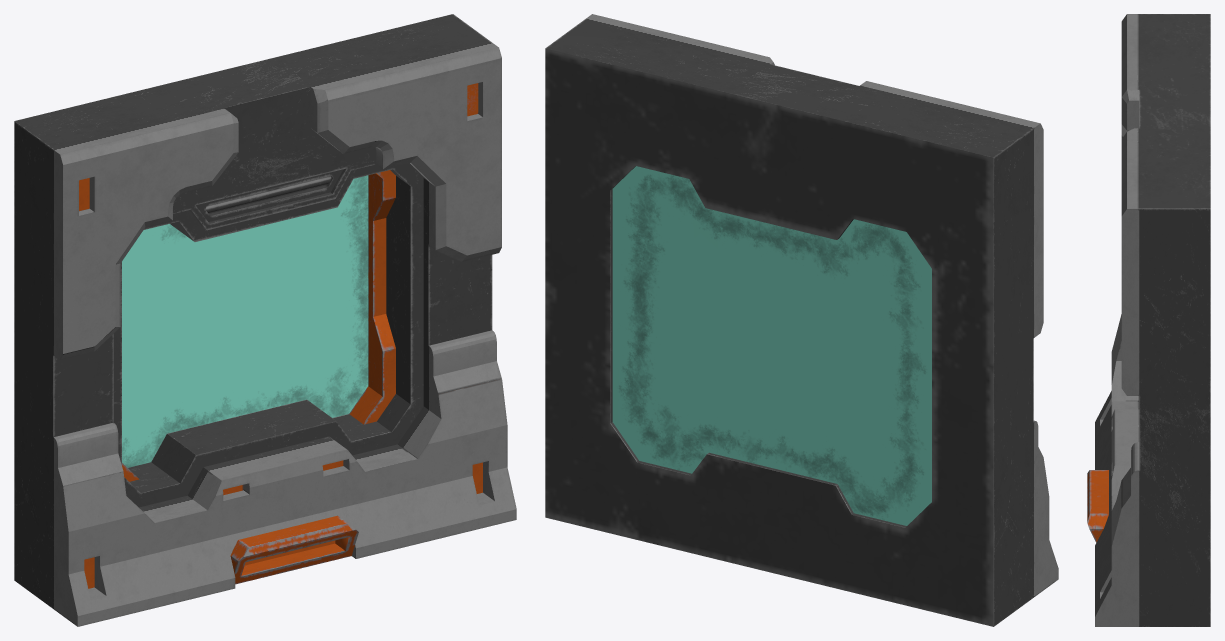
Rendered from tile_wall1.FBX.
3 renders of one model, left to right at view 1: azimuth 30°, elevation 25°; view 2: azimuth 150°, elevation 25°; view 3: azimuth 270°, elevation 25°, orthographic. The views are drawn at different scales.
Visible parts, largest first — view 1: tile_wall1_low, tile_wall1_Glass_low; view 2: tile_wall1_low, tile_wall1_Glass_low; view 3: tile_wall1_low.
Part boxes in pixels (left/top/right/bottom): tile_wall1_low: left=14, top=14, right=516, bottom=626; tile_wall1_Glass_low: left=122, top=175, right=368, bottom=467; tile_wall1_low: left=545, top=14, right=1058, bottom=626; tile_wall1_Glass_low: left=612, top=166, right=931, bottom=525; tile_wall1_low: left=1087, top=14, right=1210, bottom=626.
Bounding box in the file's own units: 200 × 200 × 53.47.
